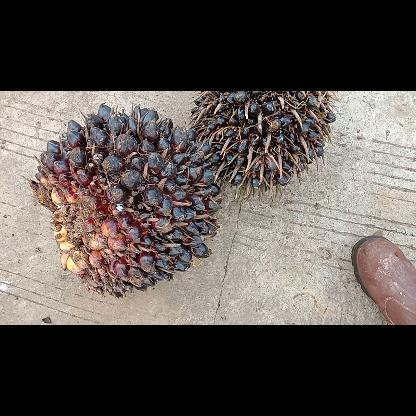TBS mentah: (26, 100, 224, 298), (186, 90, 340, 202)
